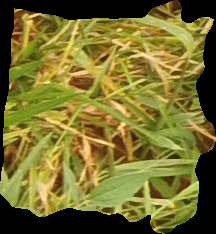grass: (1, 1, 213, 232)
